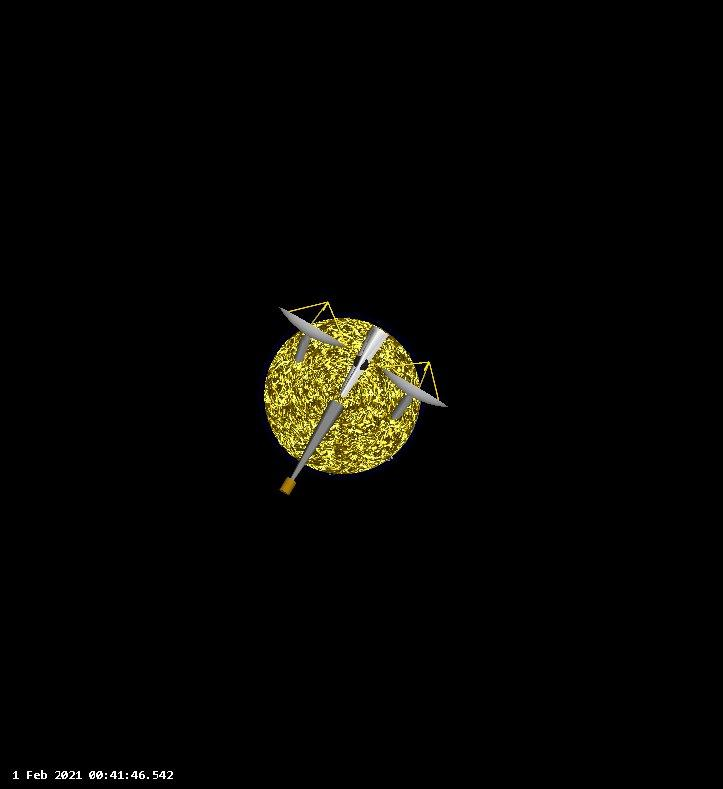antenna: (377, 360, 450, 410), (279, 299, 348, 349)
body: (256, 311, 430, 483)
